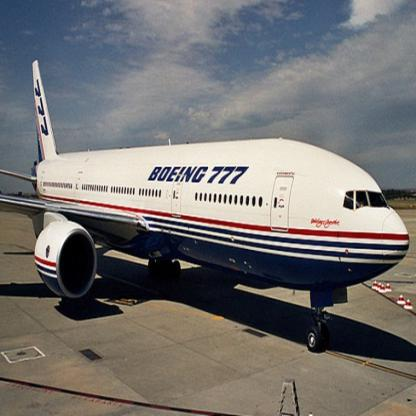CIV_Plane: (1, 58, 411, 354)
